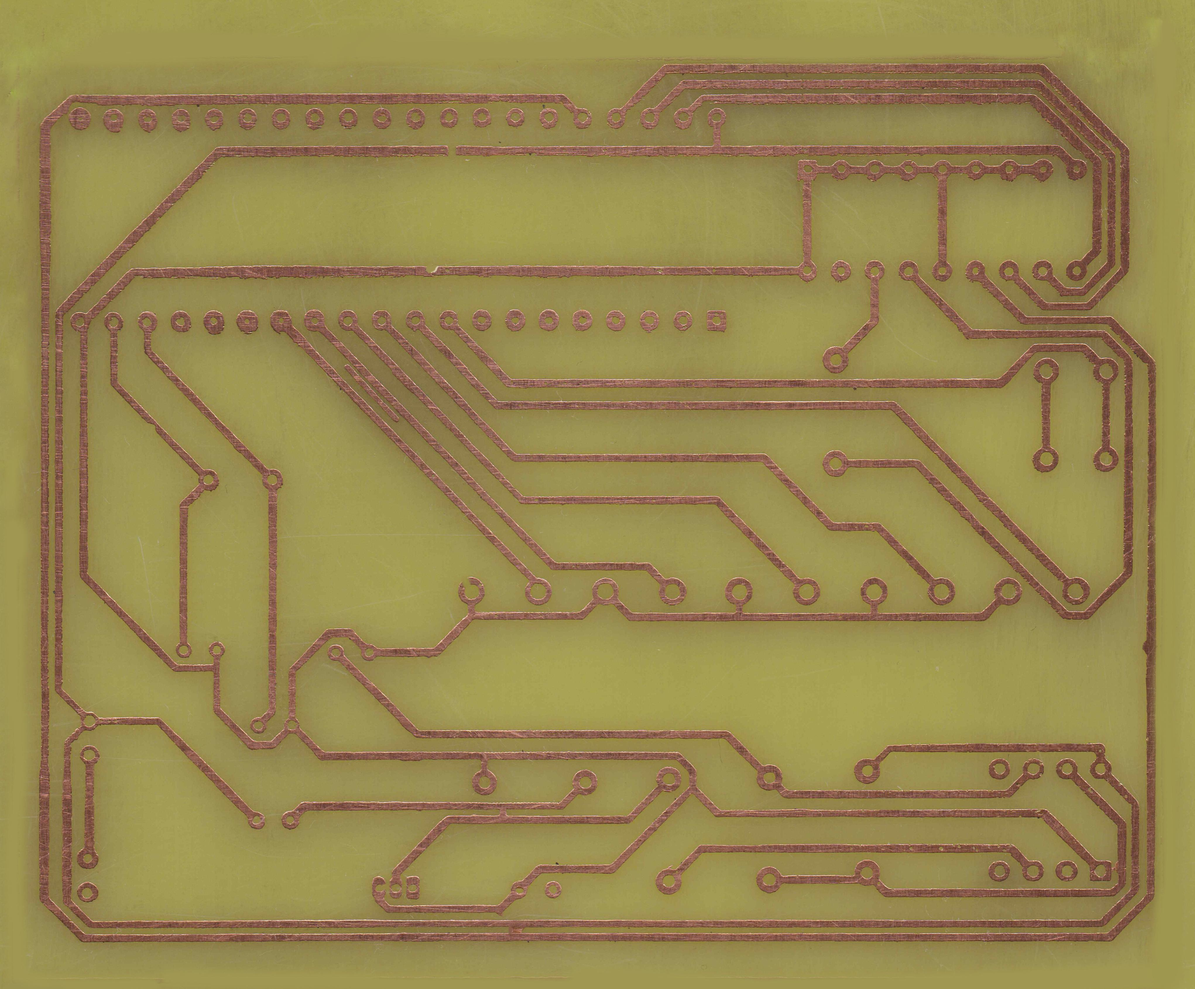missing_hole: (457, 575, 486, 604), (371, 874, 387, 899)
mouse_bite: (420, 262, 445, 278), (147, 422, 159, 432), (68, 738, 79, 748)
open_circuit: (439, 136, 463, 166)
short: (504, 918, 529, 943), (495, 801, 511, 825)
spur: (1136, 636, 1160, 658)
spurious_copper: (341, 360, 403, 425)
